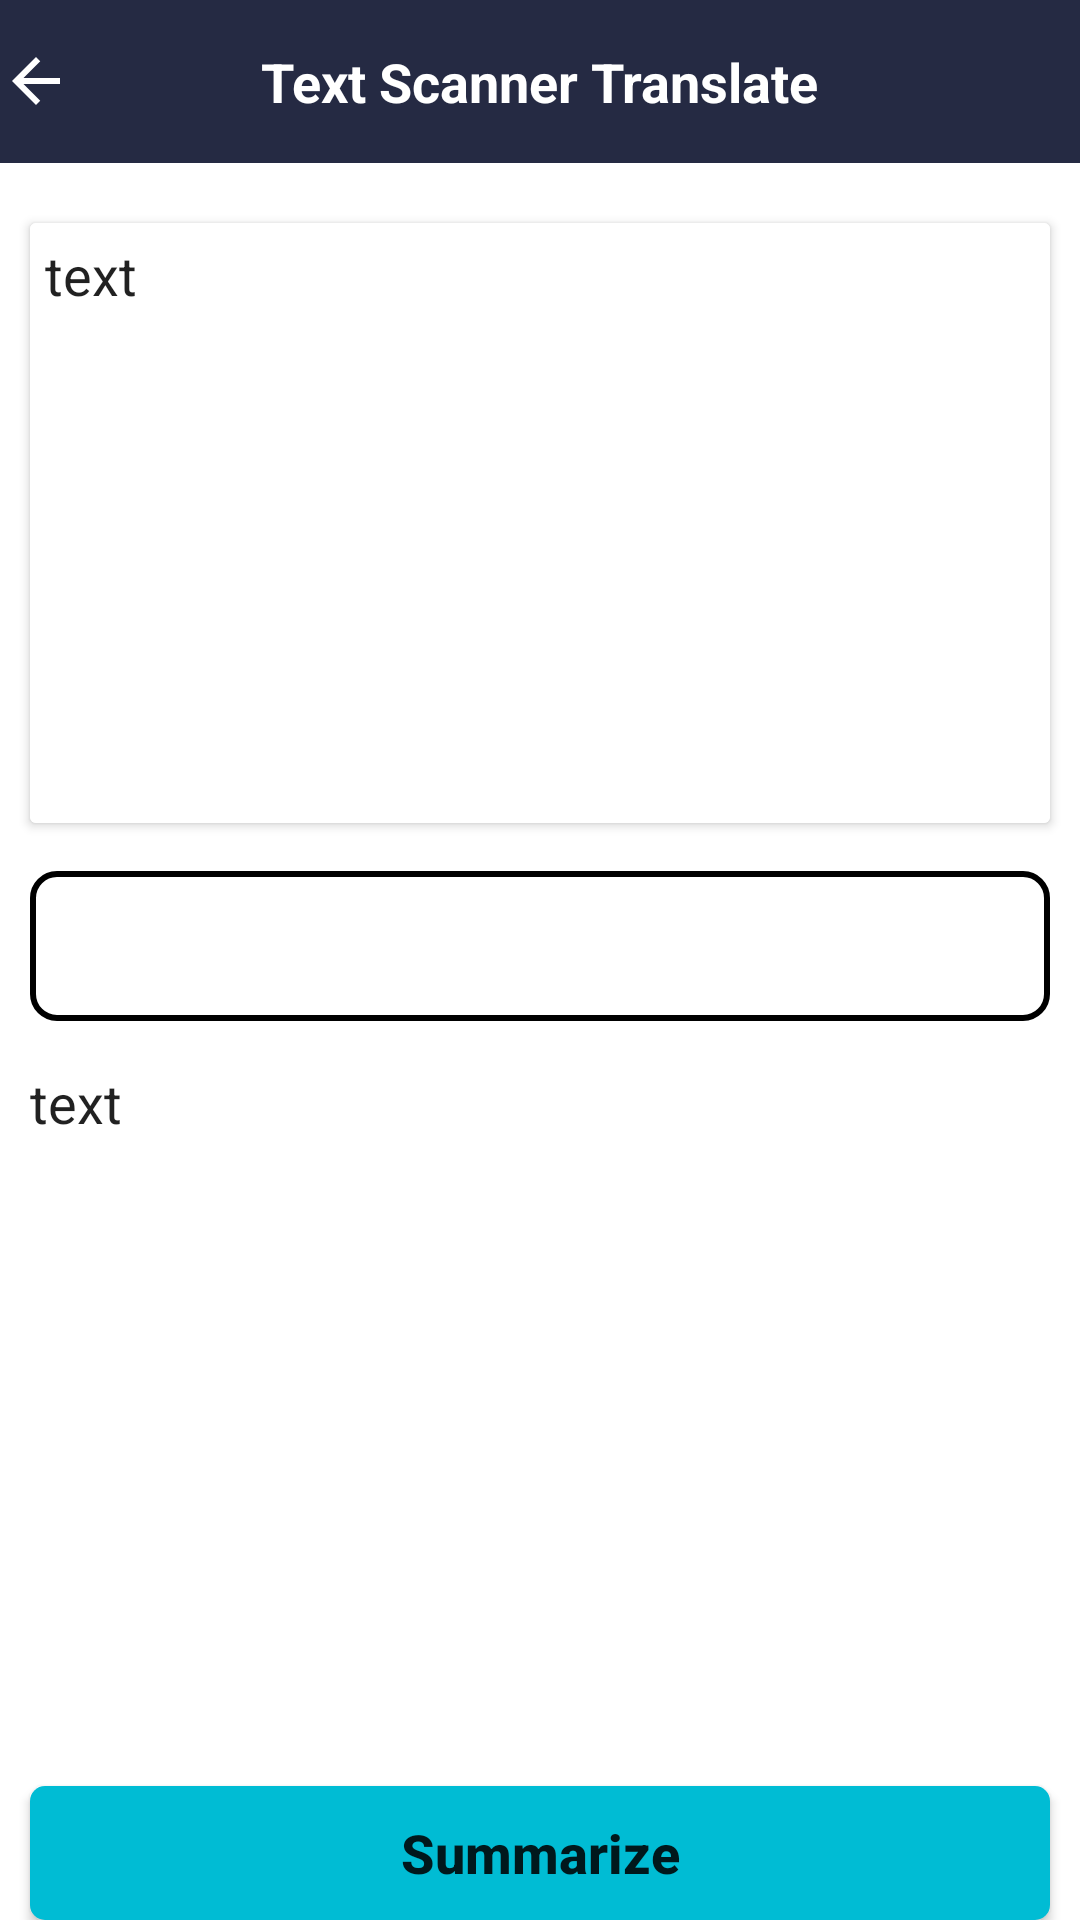

Screen size 1080px×1920px. Icon name, then its box in pixels as (x1, y1, x2, y2):
arrow back: (12, 57, 60, 105)
